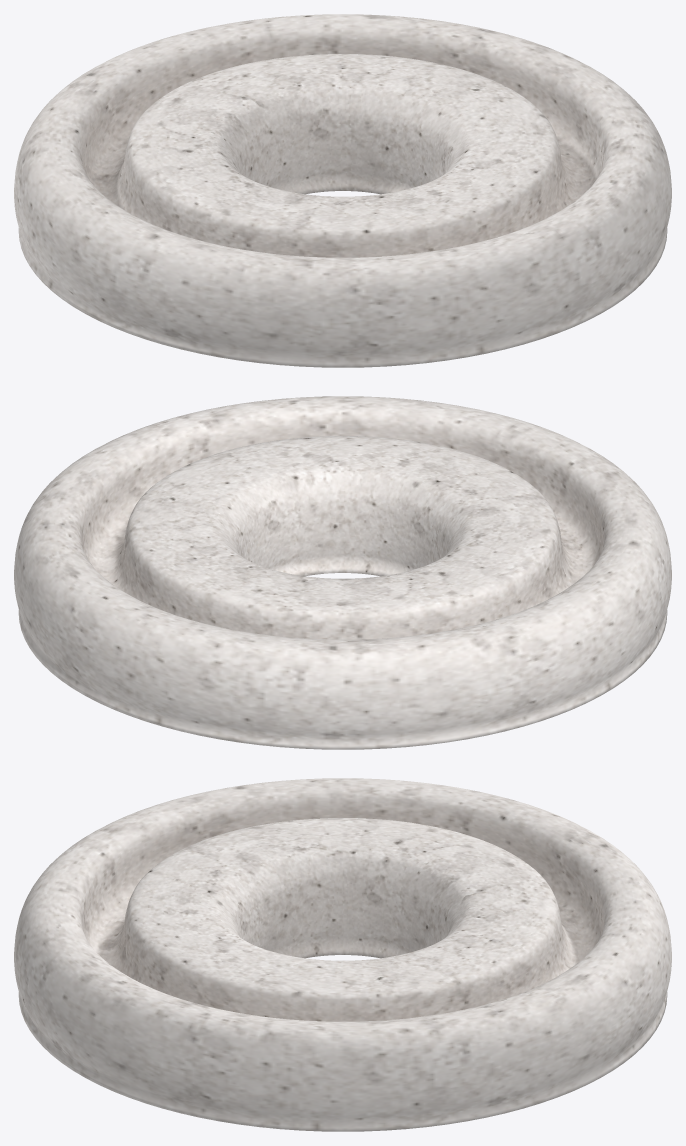
The model's file is tzaar-tzaar-white.glb.
3 renders of one model, top to bottom at view 1: azimuth 30°, elevation 25°; view 2: azimuth 150°, elevation 25°; view 3: azimuth 270°, elevation 25°, orthographic.
Visible parts, largest first — view 1: tzaar-tzaar-white; view 2: tzaar-tzaar-white; view 3: tzaar-tzaar-white.
Boxes of the visible parts, bbox=[...] form: tzaar-tzaar-white: bbox=[14, 14, 671, 367]; tzaar-tzaar-white: bbox=[14, 396, 671, 749]; tzaar-tzaar-white: bbox=[14, 778, 671, 1131].
Size of the model in its own units: 0.028 by 0.00435 by 0.028.
Materials: 1 (1 with a texture image).
